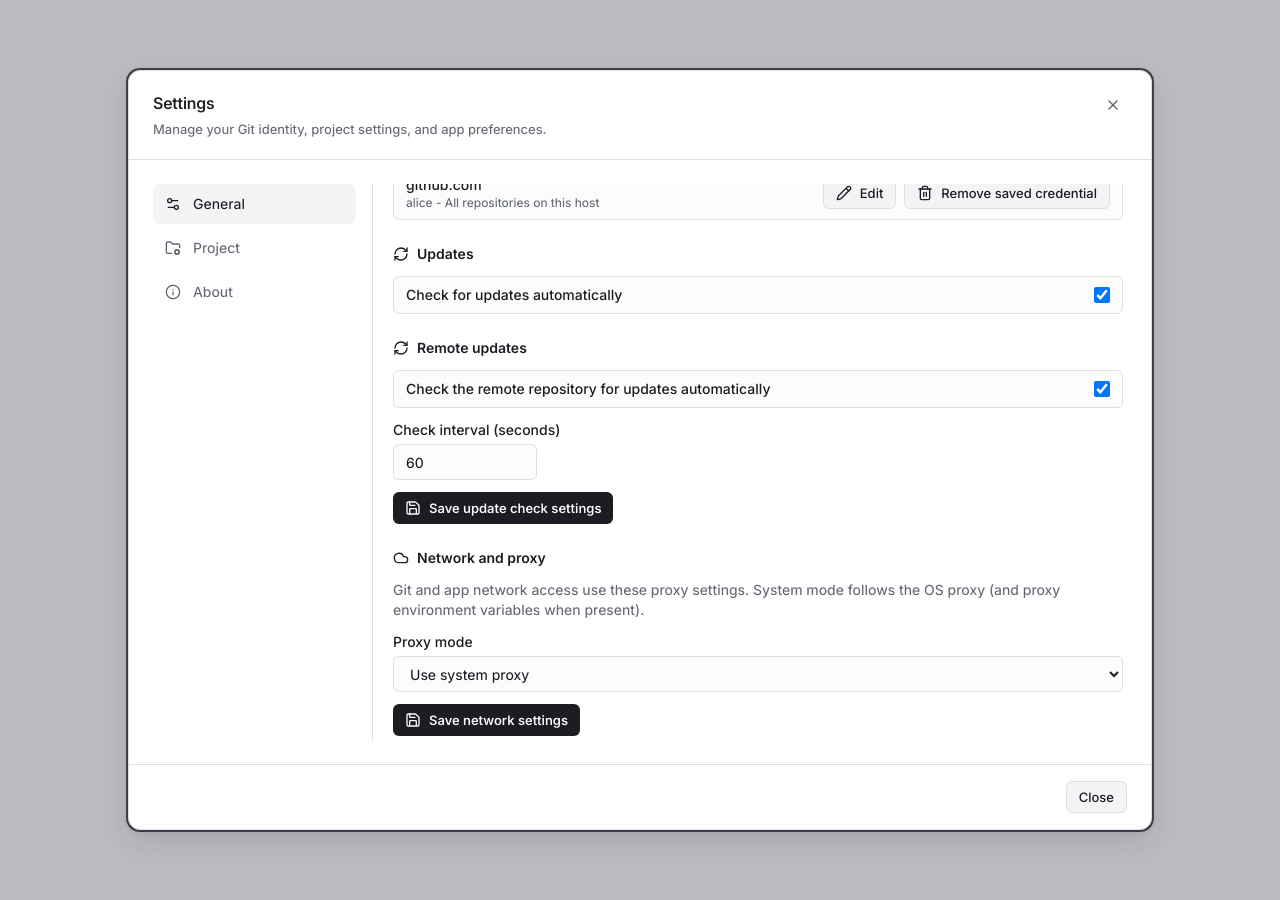
Test case: SettingsModal › shows interval validation and disables saving when fetch interval is out of range
This screenshot has width=1280, height=900.
(page scrolled)
Replace the text in the number field labelled "Check interval (seconds)" with "9" at (465, 462), box [393, 444, 537, 480]
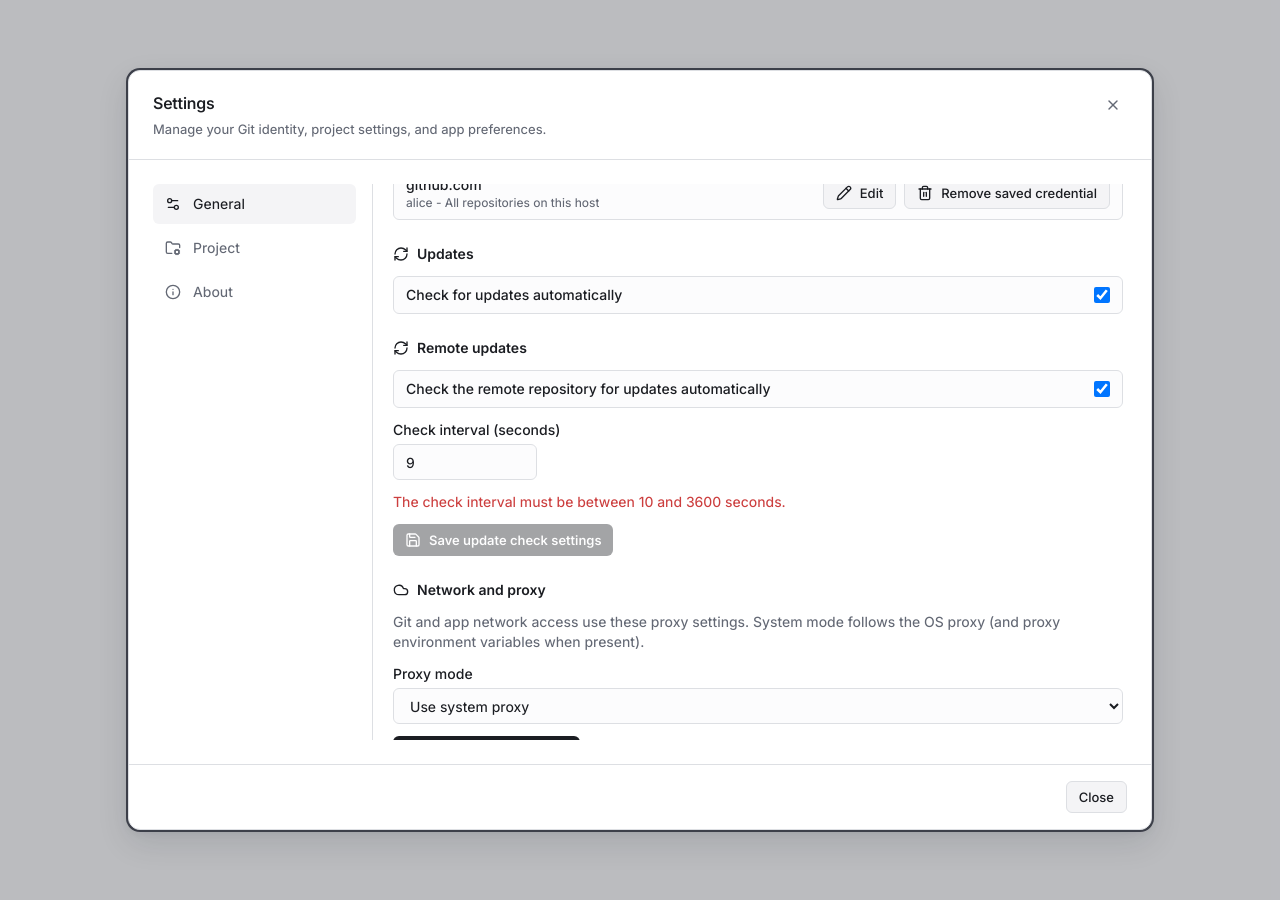
Expected: the text "The check interval must be between 10 and 3600 seconds." is shown, [393, 493, 786, 510]
Expected: the button "Save update check settings" is disabled, [393, 524, 614, 556]
